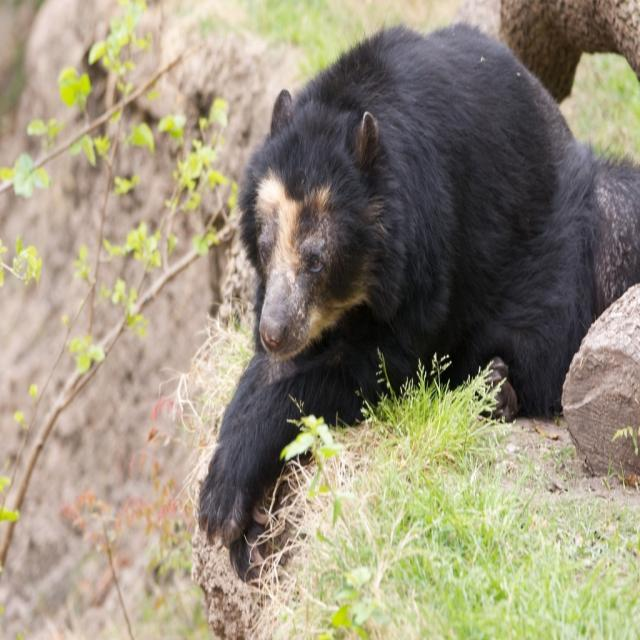Bear: (196, 10, 640, 585)
